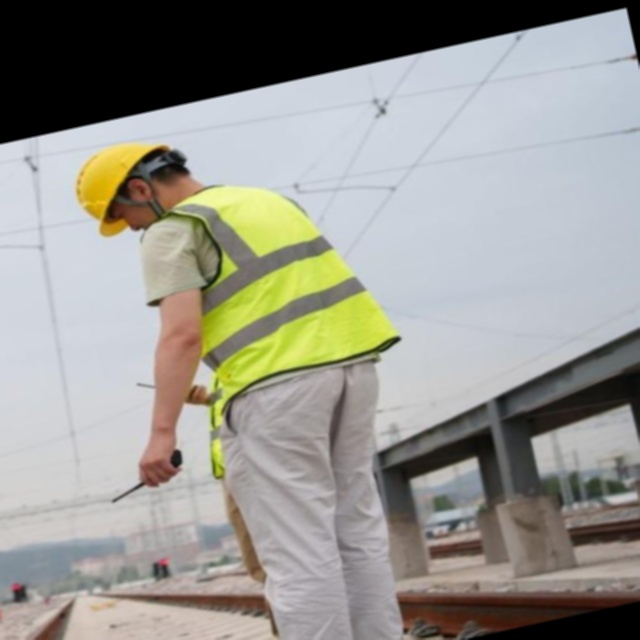Con_Casco: (67, 133, 196, 249)
Con_Chaleco: (153, 158, 399, 400)
